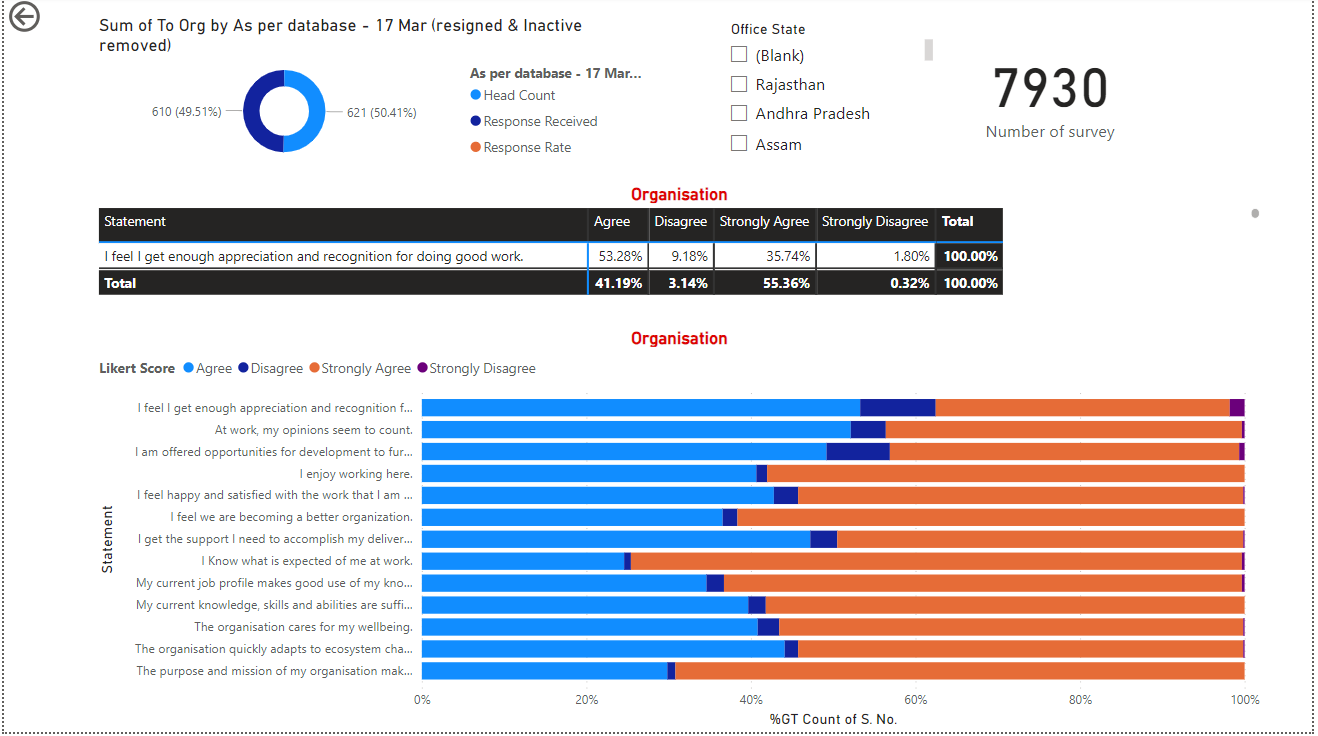

The page's visual inventory and layout, read from the dashboard file:
{"tool":"powerbi","page":{"name":"Org","canvas":[1280,720],"ordinal":1},"visuals":[{"type":"pivotTable","title":"Organisation","fields":{"Rows":["Unpivot Final Sheet- Org.Statement"],"Columns":["Unpivot Final Sheet- Org.Likert Score"],"Values":["CountNonNull(Unpivot Final Sheet- Org.S. No.)"]},"box":[88,183.4,1145.4,113.7],"z":0},{"type":"hundredPercentStackedBarChart","title":"Organisation","fields":{"Category":["Unpivot Final Sheet- Org.Statement"],"Y":["Divide(CountNonNull(Unpivot Final Sheet- Org.S. No.), ScopedEval(CountNonNull(Unpivot Final Sheet- Org.S. No.), [Role.Ro"],"Series":["Unpivot Final Sheet- Org.Likert Score"]},"box":[88,323.9,1145.4,396.1],"z":1000},{"type":"donutChart","fields":{"Category":["Summary.As per database - 17 Mar (resigned & Inactive removed)"],"Y":["Sum(Summary.To Org)"]},"box":[88,18.3,541.5,150.4],"z":2000},{"type":"actionButton","box":[0,0,100,40],"z":3000},{"type":"slicer","fields":{"Values":["Unpivot Final Sheet- Org.Office State"]},"box":[698,18.3,215.1,150.4],"z":4000},{"type":"card","fields":{"Values":["CountNonNull(Unpivot Final Sheet- Org.S. No.)"]},"box":[921.7,18.3,202.9,150.4],"z":5000}]}

Visuals, with their boxes in screenshot pixels (x1, y1, x2, y2), scaled from the page's 1280x720 canvas onto the 1318x736 screenshot:
"Organisation" pivotTable: pyautogui.locateOnScreen(91, 187, 1270, 304)
"Organisation" hundredPercentStackedBarChart: pyautogui.locateOnScreen(91, 331, 1270, 735)
donutChart - Summary.As per database - 17 Mar (resigned & Inactive removed) x Sum(Summary.To Org): pyautogui.locateOnScreen(91, 19, 648, 172)
actionButton: pyautogui.locateOnScreen(0, 0, 103, 41)
slicer - Unpivot Final Sheet- Org.Office State: pyautogui.locateOnScreen(719, 19, 940, 172)
card - CountNonNull(Unpivot Final Sheet- Org.S. No.): pyautogui.locateOnScreen(949, 19, 1158, 172)
